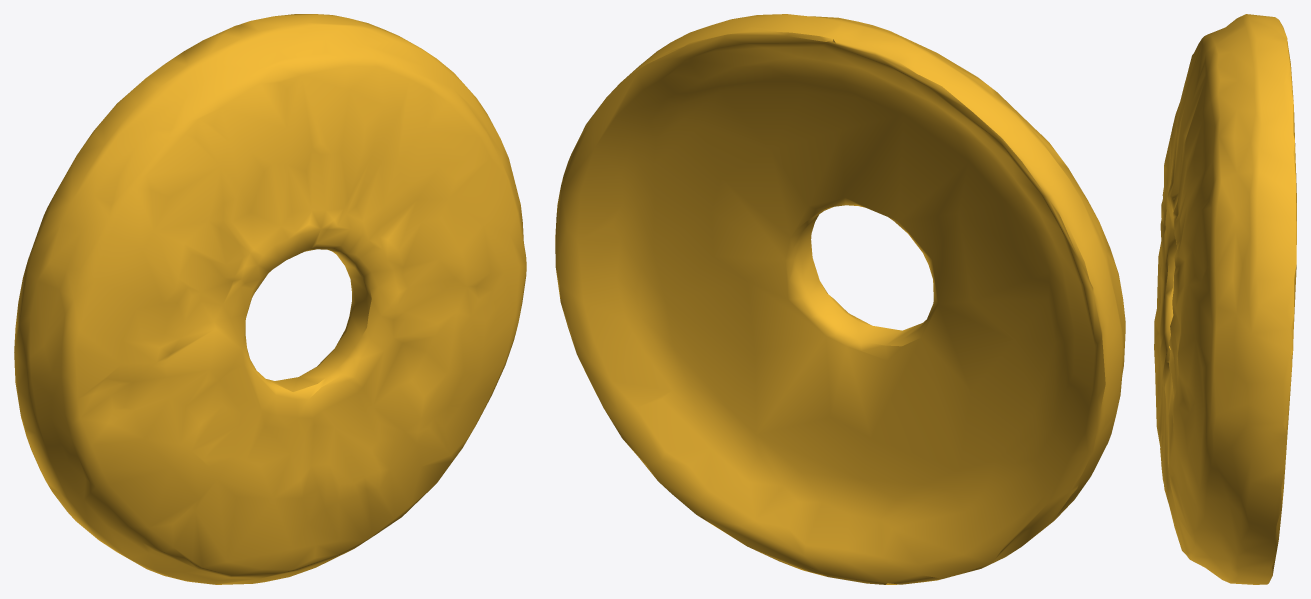
Rendered from nervoso-iris-l.glb.
3 views of the same model, side by side, from view 1: azimuth 30°, elevation 25°; view 2: azimuth 150°, elevation 25°; view 3: azimuth 270°, elevation 25° (orthographic). The views are drawn at different scales.
Parts seen in each view (by area): view 1: Iris.l; view 2: Iris.l; view 3: Iris.l.
Part boxes in pixels (x1=…): Iris.l: x1=14, y1=14, x2=526, y2=584; Iris.l: x1=555, y1=14, x2=1125, y2=584; Iris.l: x1=1154, y1=14, x2=1296, y2=584.
Size of the model in its own units: 0.0128 by 0.0129 by 0.00322.
